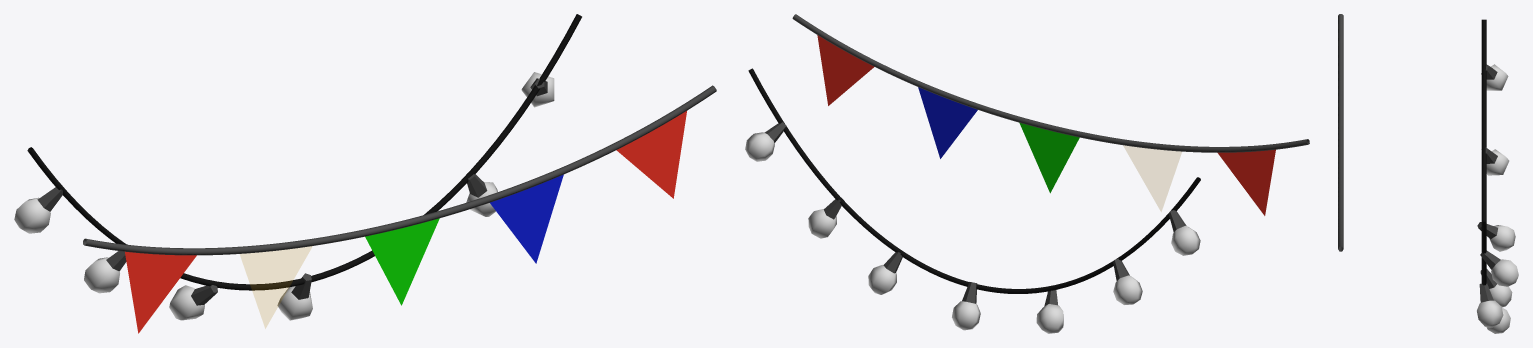
Rendered from fairylights.fbx.
The picture shows the model from 3 angles, left to right: view 1: azimuth 30°, elevation 25°; view 2: azimuth 150°, elevation 25°; view 3: azimuth 270°, elevation 25°; orthographic projection. The views are drawn at different scales.
Parts seen in each view (by area): view 1: fairy-lights, bandeirinhas-cable, Plane.002, Plane.001, Plane.004, Plane, Plane.003; view 2: fairy-lights, bandeirinhas-cable, Plane.004, Plane.002, Plane.001, Plane, Plane.003; view 3: fairy-lights, bandeirinhas-cable.
Part boxes in pixels (x1,y1,x2,y2): fairy-lights: [14, 14, 581, 320]; bandeirinhas-cable: [83, 85, 716, 255]; Plane.002: [365, 218, 439, 305]; Plane.001: [490, 174, 563, 263]; Plane.004: [125, 251, 196, 333]; Plane: [616, 111, 686, 198]; Plane.003: [240, 246, 312, 328]; fairy-lights: [745, 68, 1200, 333]; bandeirinhas-cable: [792, 14, 1309, 152]; Plane.004: [1217, 149, 1275, 215]; Plane.002: [1019, 122, 1079, 193]; Plane.001: [918, 87, 977, 158]; Plane: [817, 35, 874, 105]; Plane.003: [1124, 146, 1181, 211]; fairy-lights: [1477, 19, 1518, 333]; bandeirinhas-cable: [1338, 14, 1343, 251].
Bounding box in the file's own units: 401 × 149 × 131.
